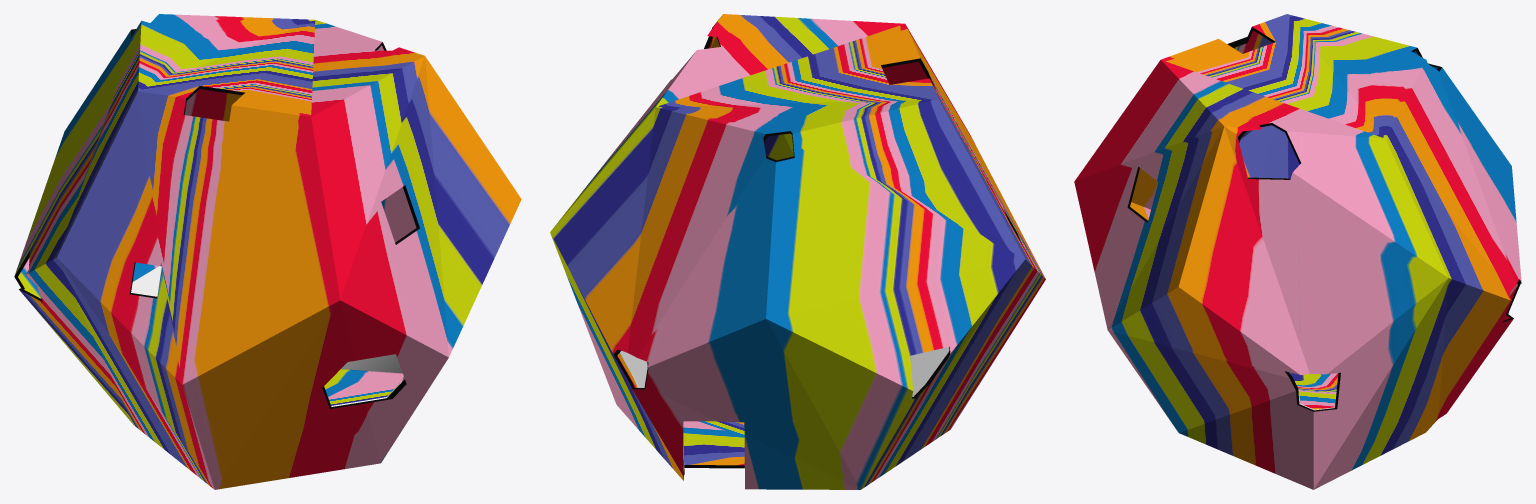
3 renders of one model, left to right at view 1: azimuth 30°, elevation 25°; view 2: azimuth 150°, elevation 25°; view 3: azimuth 270°, elevation 25°, orthographic. The views are drawn at different scales.
Visible parts, largest first — view 1: Solids, Solids_2, Display wall, Frames; view 2: Solids, Solids_2, Display wall, Frames; view 3: Solids, Solids_2, Frames.
Part boxes in pixels (box(x1,y1,x2,y2)): Solids: box(14, 14, 521, 489); Solids_2: box(18, 31, 416, 405); Display wall: box(131, 266, 404, 406); Frames: box(14, 29, 419, 408); Solids: box(550, 14, 1045, 489); Solids_2: box(617, 36, 927, 465); Display wall: box(620, 347, 949, 474); Frames: box(613, 27, 1021, 478); Solids: box(1074, 14, 1521, 489); Solids_2: box(1130, 30, 1517, 409); Frames: box(1127, 27, 1521, 411).
Bounding box in the file's own units: 34.32 × 29.92 × 35.81.
Materials: 3 (3 with a texture image).
